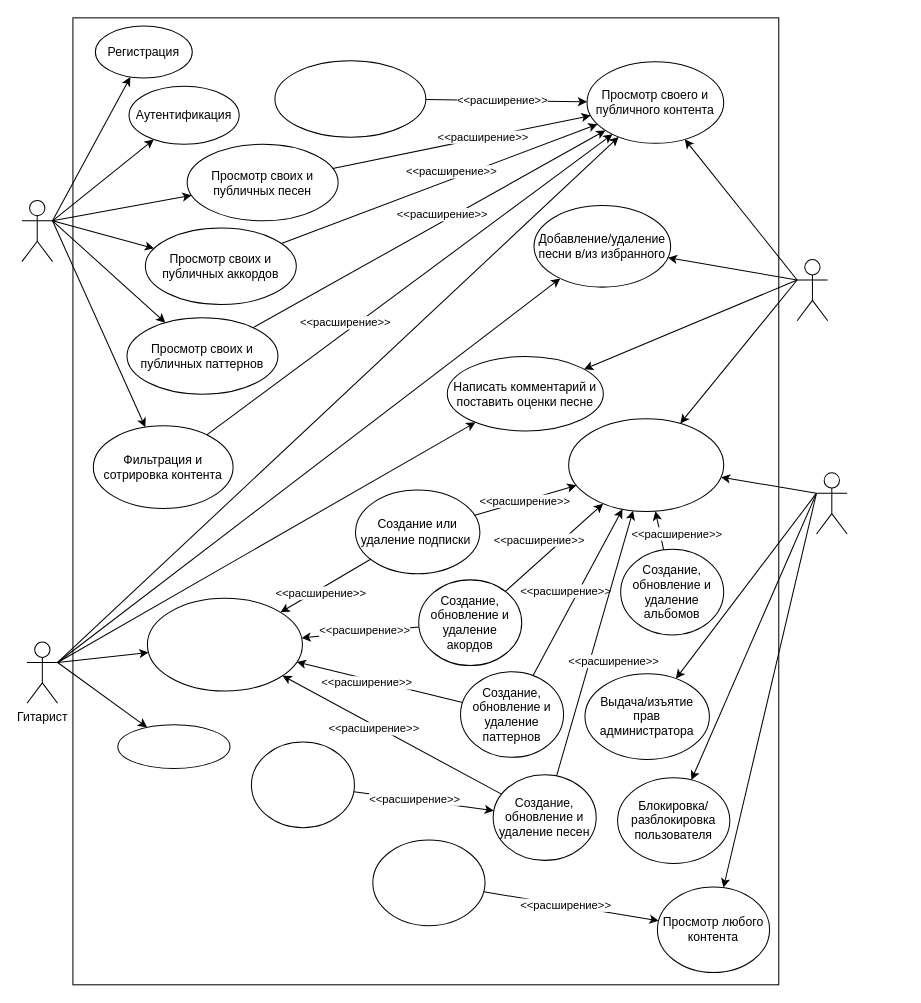
The diagram is 921 pixels wide and 1003 high, and some of its shapes have lost their labels. The shapes that lost their labels are listed below. From the top down, each one's box as (x1, y1, x2, y2) in pixels, then its label:
(274, 60, 426, 137): Просмотр своих и публичных альбомов
(21, 199, 53, 262): Гость
(796, 259, 828, 321): Премиум
(568, 418, 724, 512): Создание, обновление и удаление контента без лимита
(815, 472, 847, 534): Администратор
(146, 597, 302, 691): Создание, обновление и удаление контента с лимитами
(117, 724, 230, 769): Купить премиум
(250, 741, 354, 828): Создание, обновление и удаление аудио для песни
(372, 839, 485, 926): Удаление любого контента
